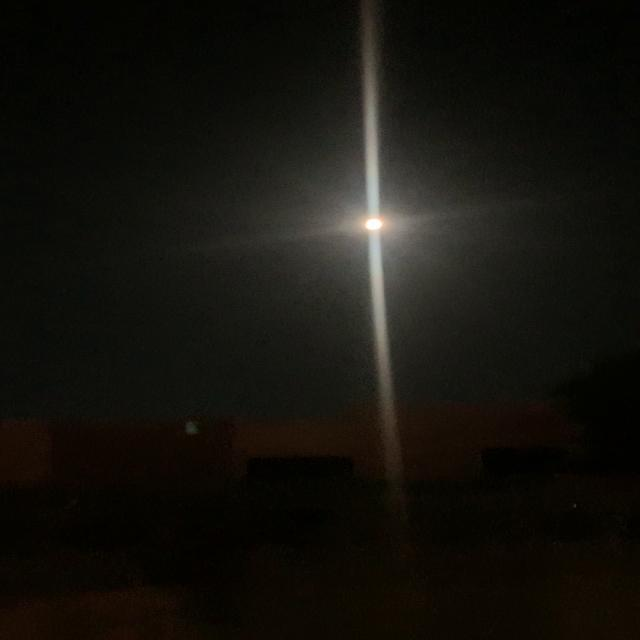moon: (347, 209, 409, 238)
